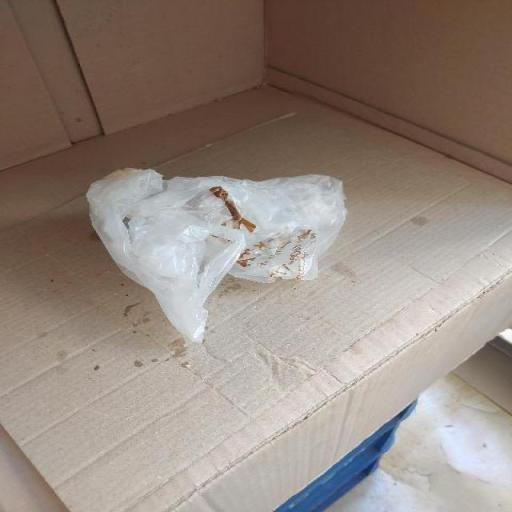plastic-bag: (84, 168, 346, 346)
